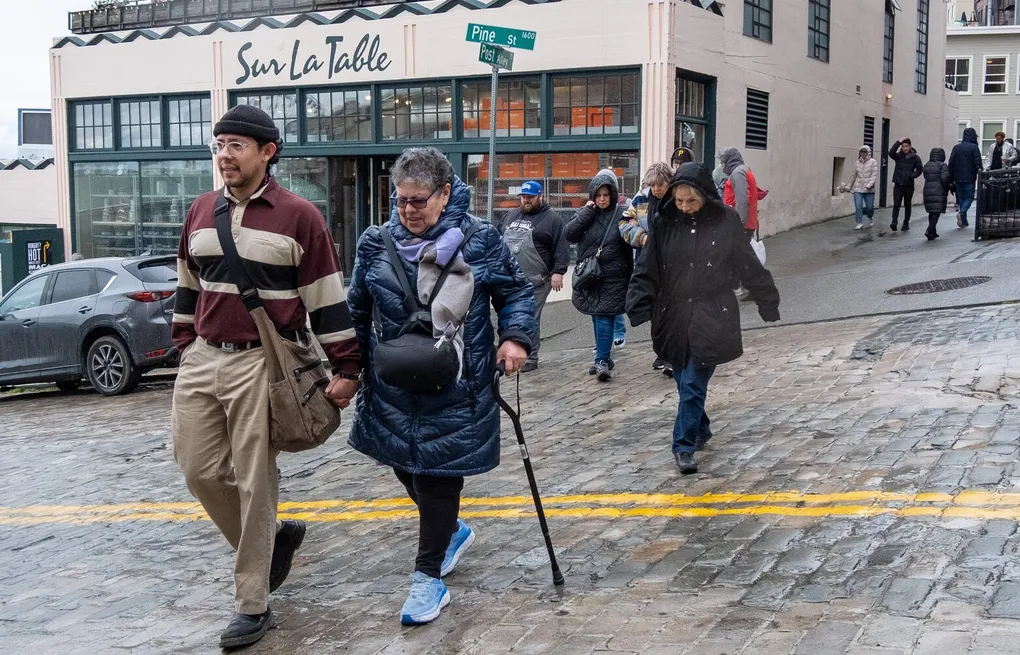person: (163, 99, 352, 655), (345, 145, 540, 634), (618, 155, 782, 478), (498, 175, 569, 373), (719, 141, 764, 262), (880, 136, 923, 233), (948, 126, 987, 227), (842, 139, 881, 233), (917, 148, 953, 247), (984, 127, 1017, 183)
